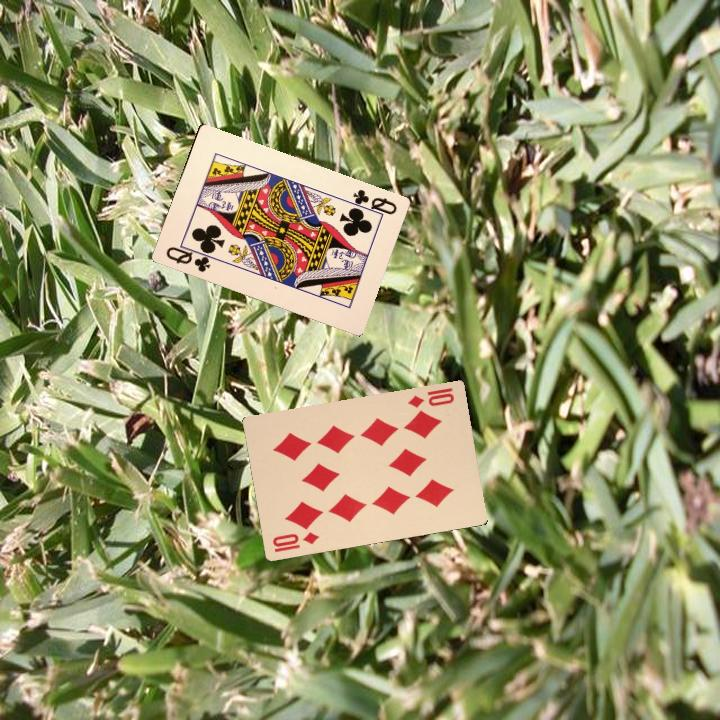10d: (268, 528, 321, 555), (404, 384, 457, 411)
Qc: (162, 240, 216, 275), (344, 185, 399, 219)
